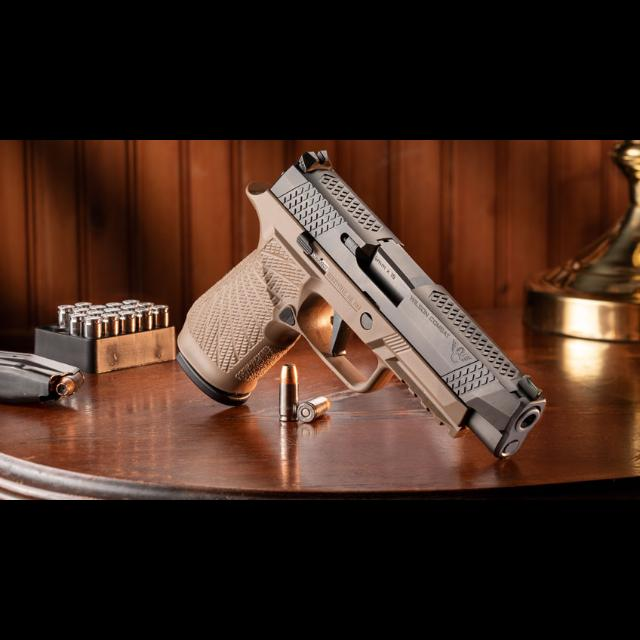handgun: (170, 149, 550, 463)
